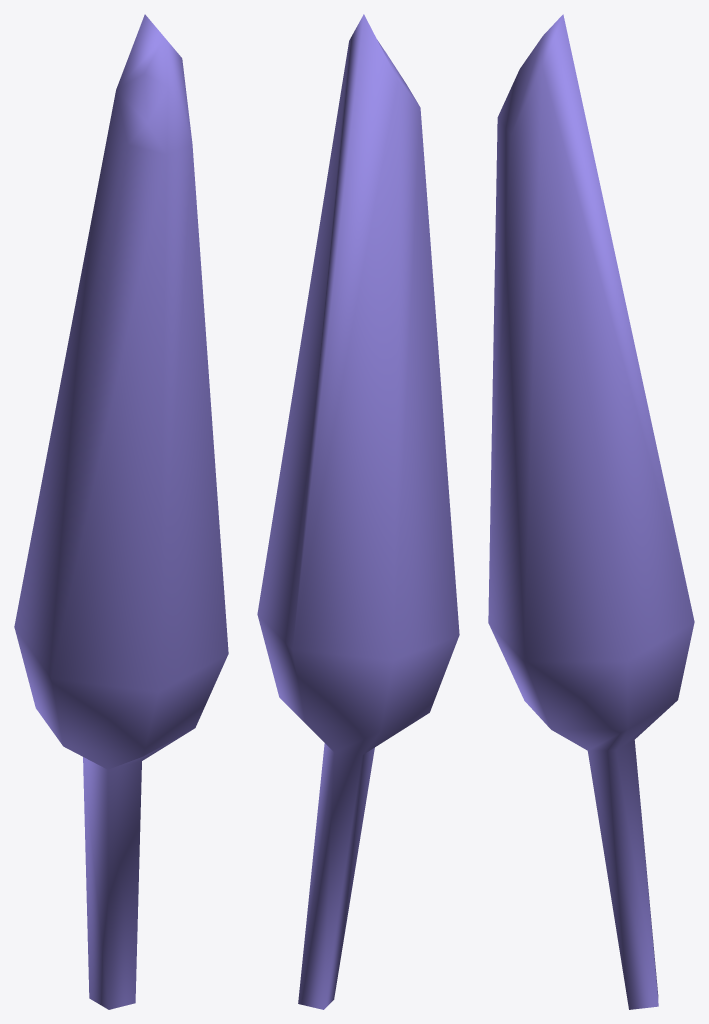
File: roselle4.fbx
The picture shows the model from 3 angles, left to right: view 1: azimuth 30°, elevation 25°; view 2: azimuth 150°, elevation 25°; view 3: azimuth 270°, elevation 25°; orthographic projection. The views are drawn at different scales.
Parts seen in each view (by area): view 1: roselle4; view 2: roselle4; view 3: roselle4.
Boxes of the visible parts, bbox=[...] form: roselle4: bbox=[14, 14, 228, 1009]; roselle4: bbox=[257, 14, 459, 1009]; roselle4: bbox=[488, 14, 694, 1009].
Bounding box in the file's own units: 13.32 × 73.26 × 13.91.
